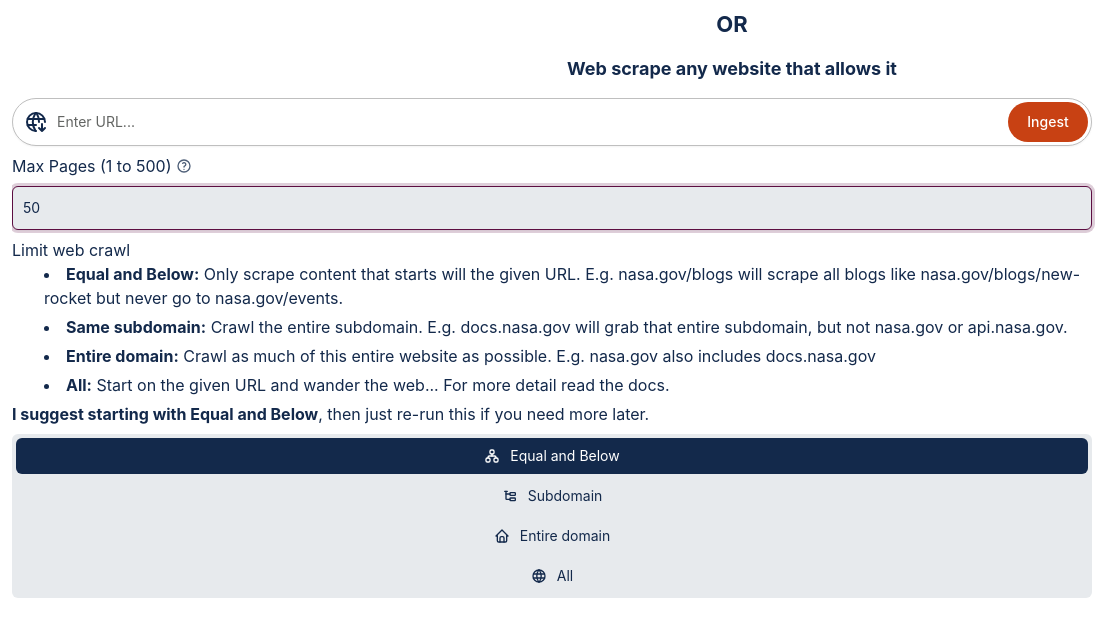
Test: WebScrape - additional coverage › validateInputs edge cases › shows error when maxUrls is empty
Clear the field with placeholder "Default 50" at [552, 208], box [12,186,1092,230]
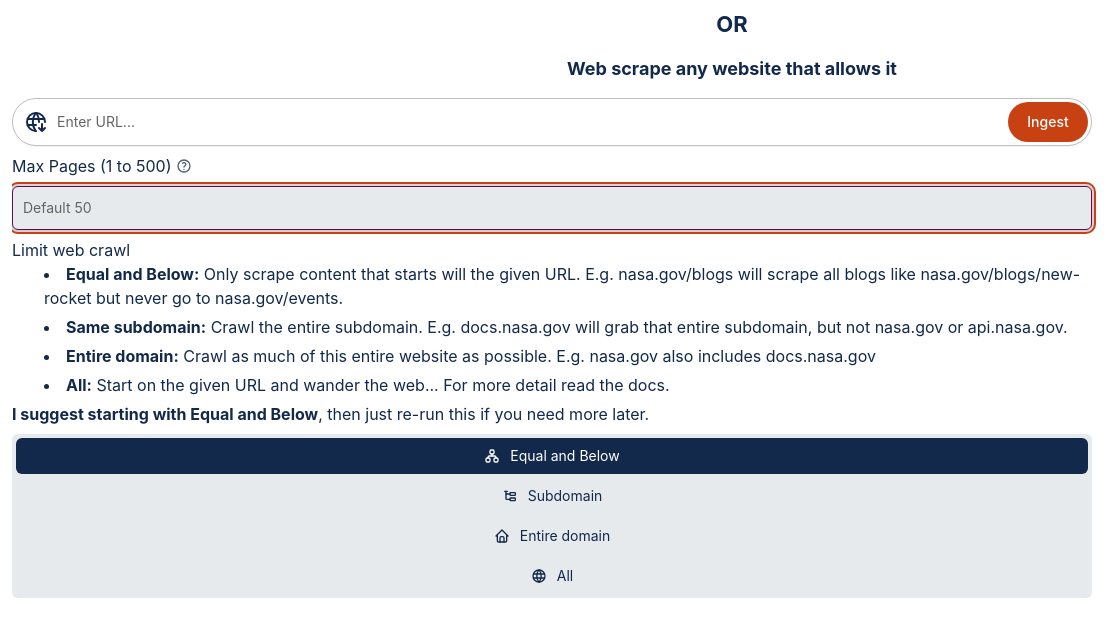
Type "https://example.com" into the field with placeholder "Enter URL..." at [552, 122], box [12,98,1092,146]
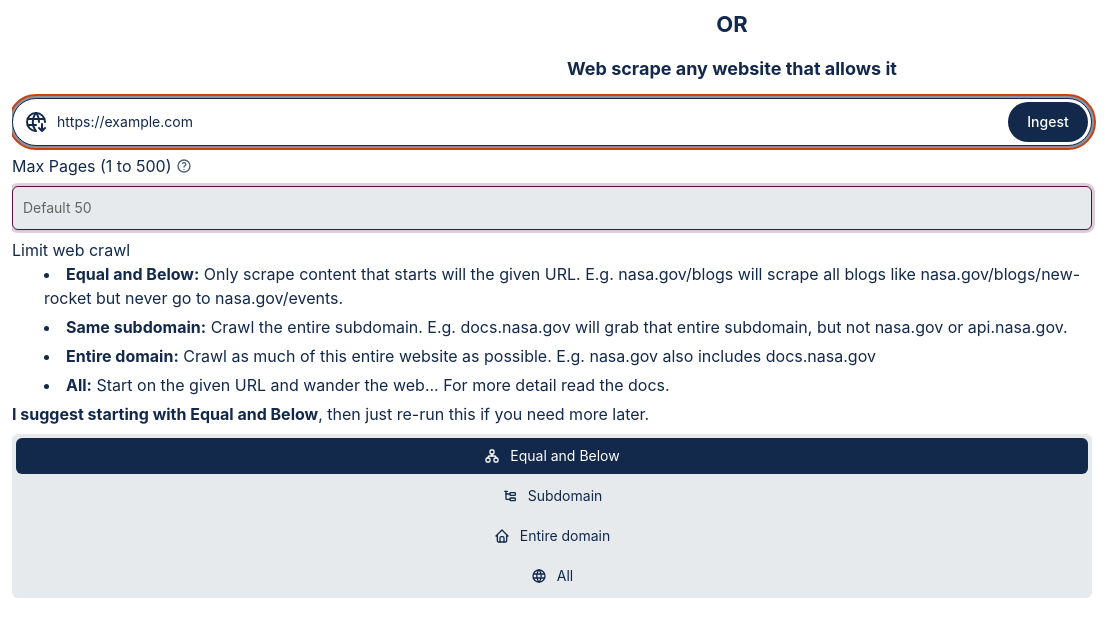
Click the button "Ingest" at [1048, 122], box [1008,102,1088,142]
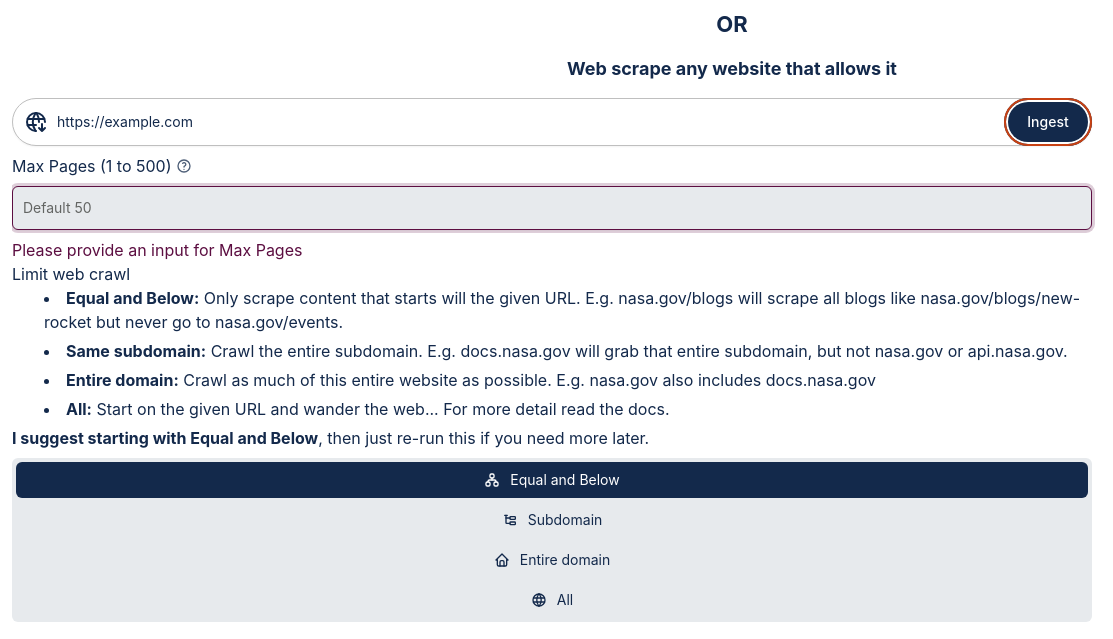
Now the text "Please provide an input for Max Pages" is shown, box [12,240,302,260]
